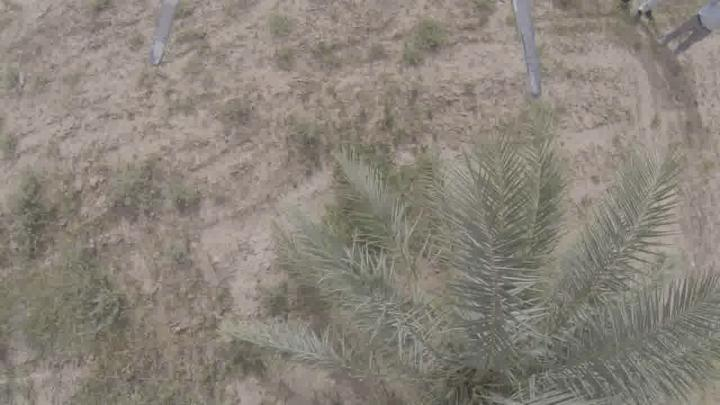Date-Palm-Crown: (342, 175, 675, 404)
